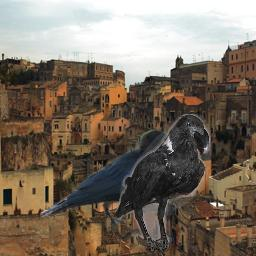Crow: (40, 129, 184, 231), (115, 114, 211, 253)
